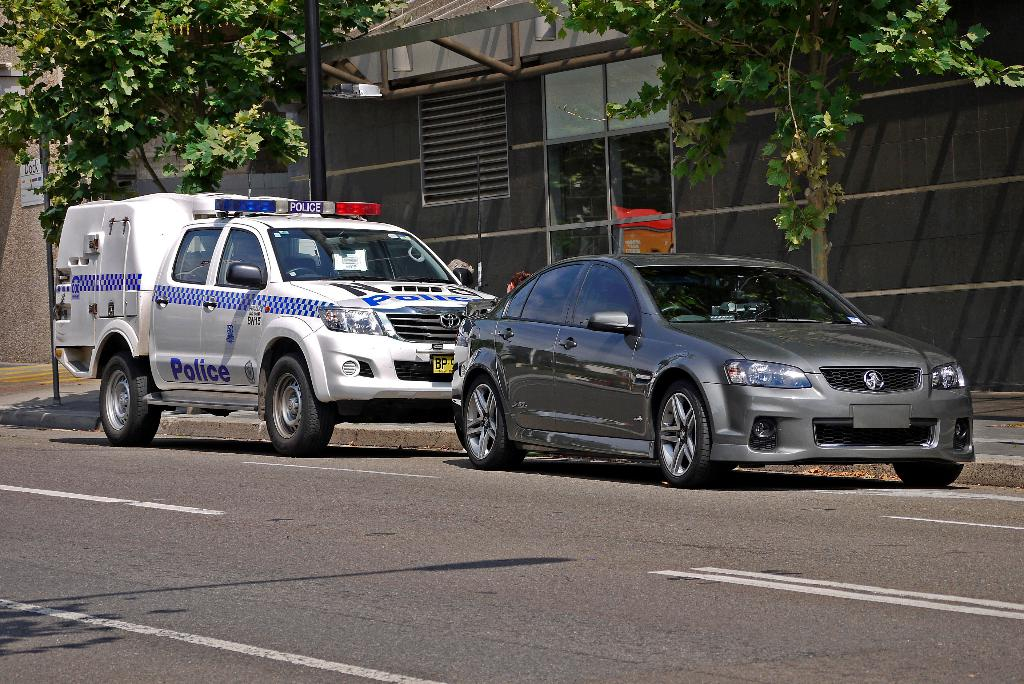mobil: (32, 199, 509, 482), (476, 270, 997, 512)
